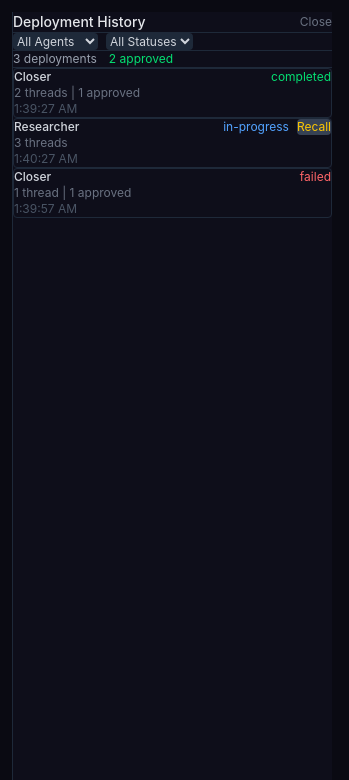
Test: Deployment history outcome summaries › summary updates when filter changes
This screenshot has width=349, height=780.
Select "Researcher" in the dropdown with test id "filter-role": (56, 42) [13,33,98,50]
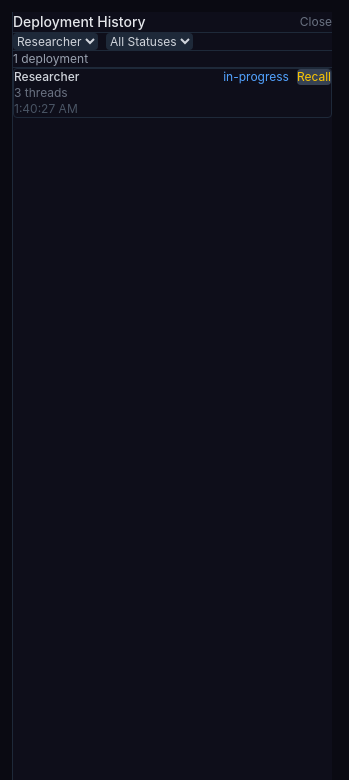
Expected: the text "1 deployment" is shown, [13,51,88,67]
